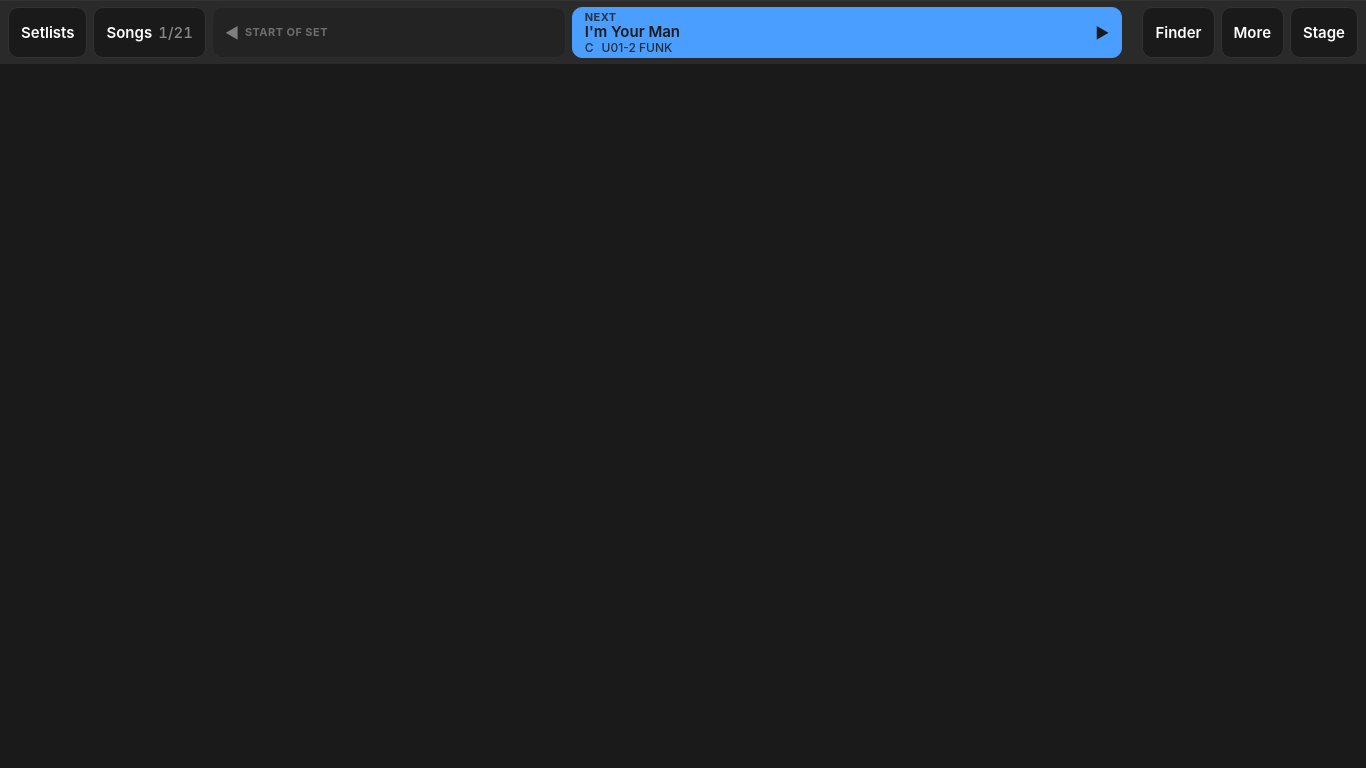
it: EDITED in the song lists › marks a song that shows the player's own chords, and only that song
Click the button with aria-label "Songs, ": click(150, 32) [94,7,206,58]
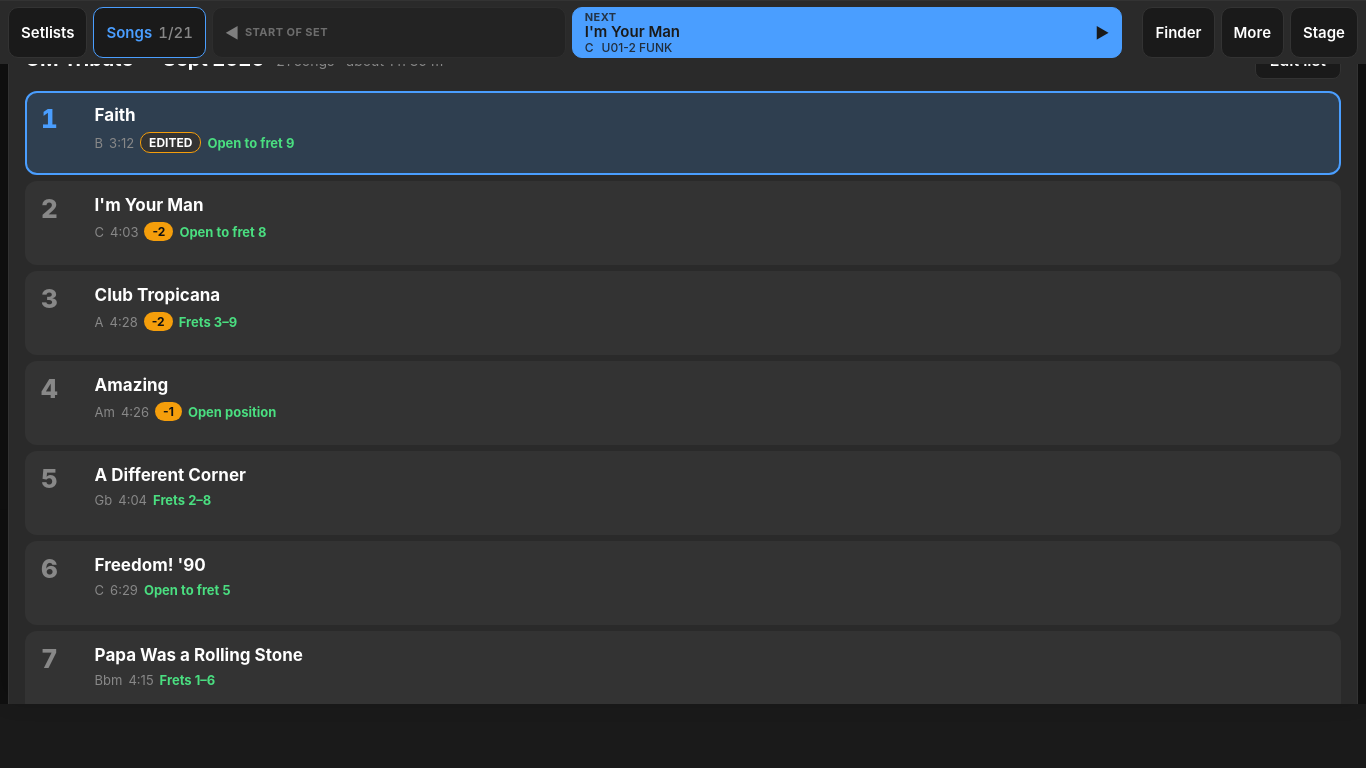
Now the text "EDITED" is shown, box [140,132,201,153]
